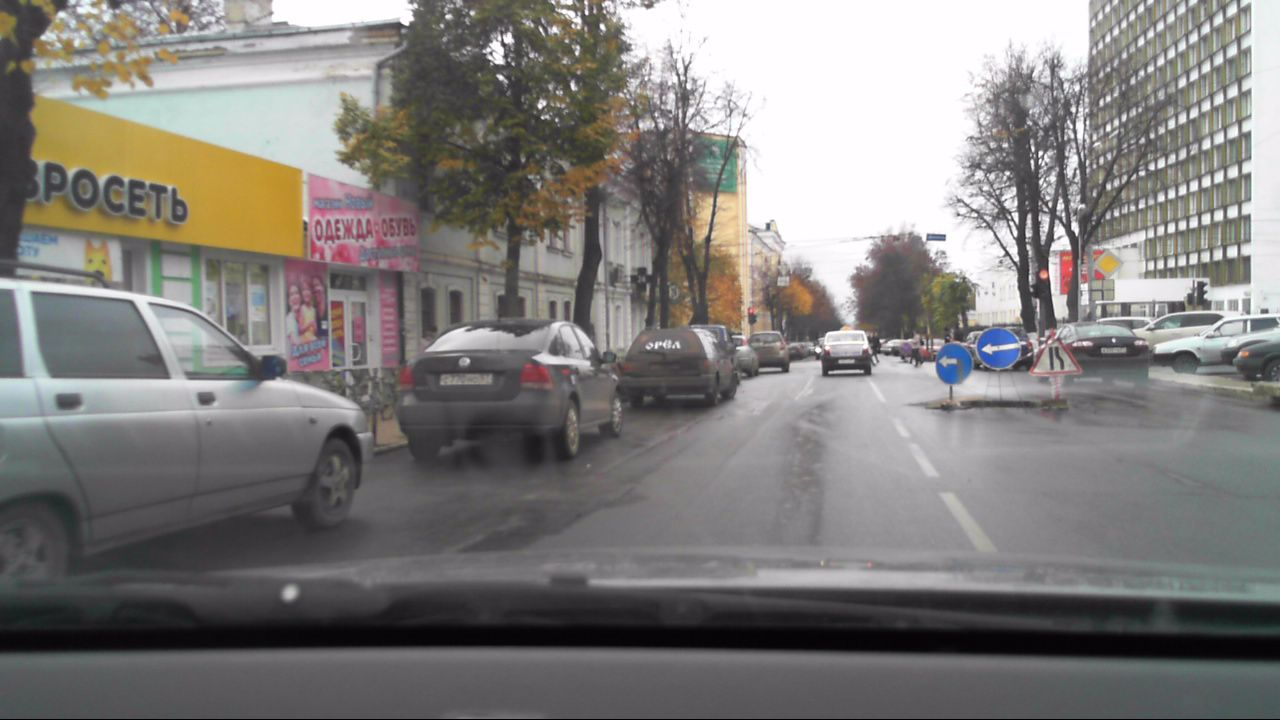Turn Left: (976, 327, 1021, 369)
